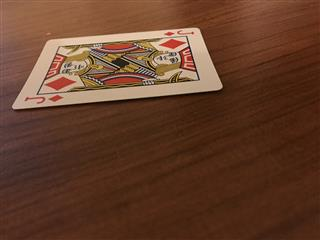JackOfDiamonds: (10, 26, 223, 109)
